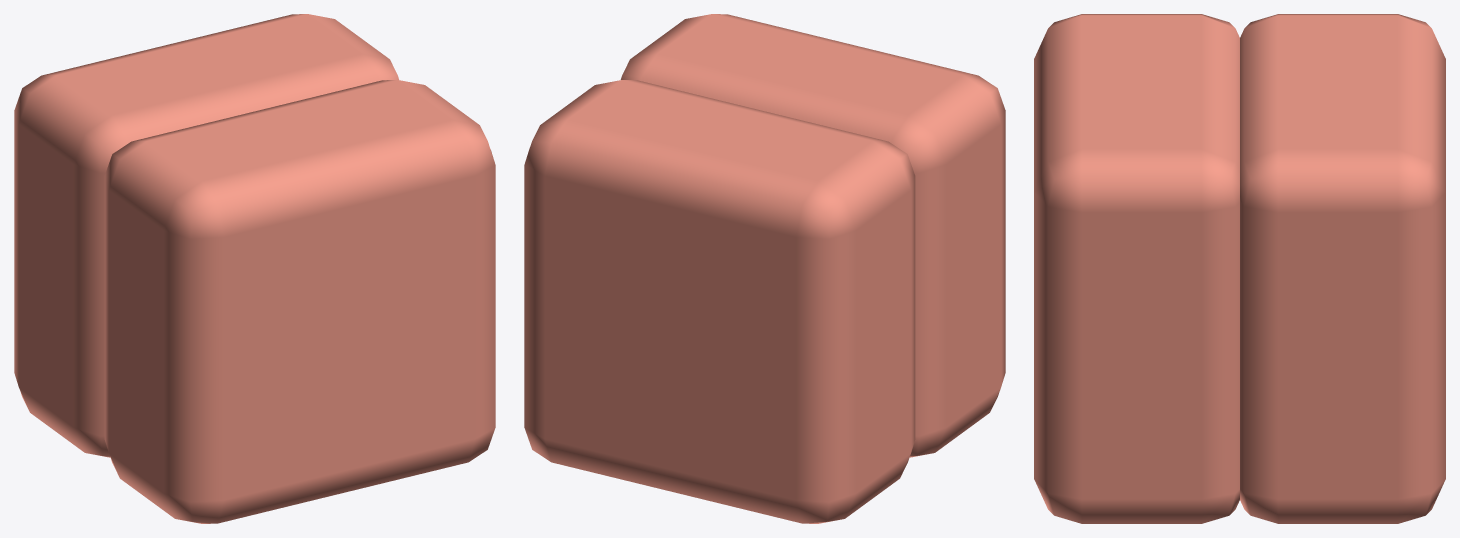
File: worm_segment_ringed.glb
The picture shows the model from 3 angles, left to right: view 1: azimuth 30°, elevation 25°; view 2: azimuth 150°, elevation 25°; view 3: azimuth 270°, elevation 25°; orthographic projection. The views are drawn at different scales.
Parts seen in each view (by area): view 1: worm_segment_ringed; view 2: worm_segment_ringed; view 3: worm_segment_ringed.
Boxes of the visible parts, box(x1,y1,x2,y2) form: worm_segment_ringed: box(14, 14, 495, 523); worm_segment_ringed: box(524, 14, 1005, 523); worm_segment_ringed: box(1034, 14, 1445, 523).
Size of the model in its own units: 0.86 by 0.86 by 0.86.
